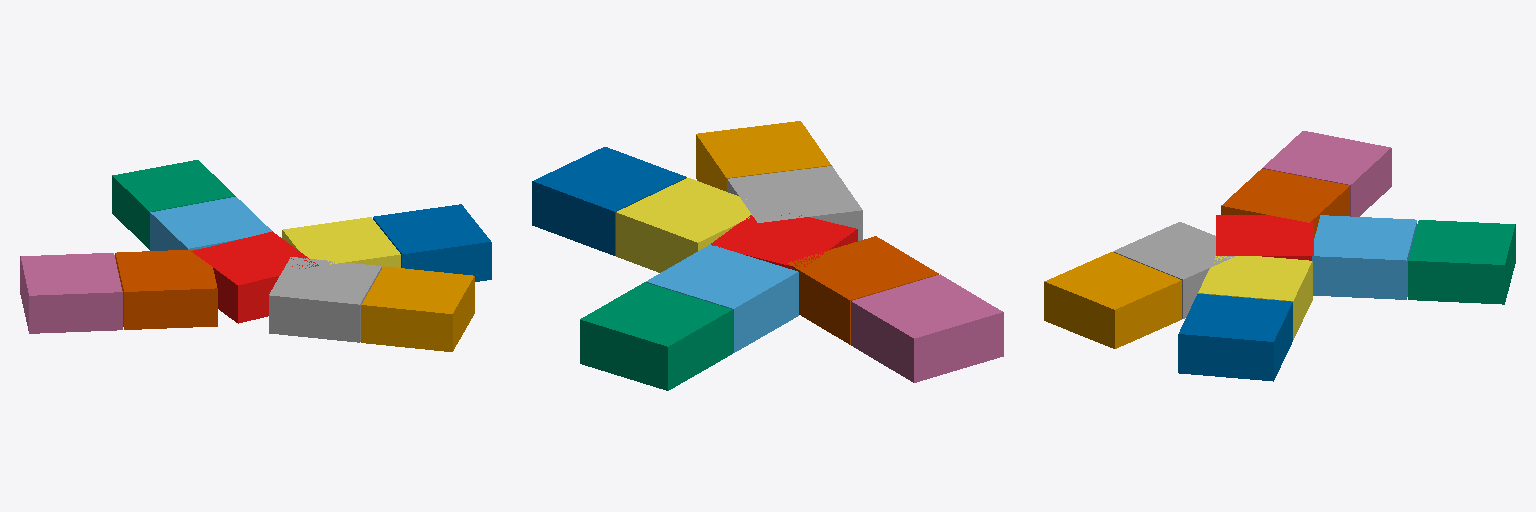
The robot description file, URDF, robot "Model_Models/Model_97.urdf2":
<?xml version='1.0' encoding='UTF-8'?>
<robot name="Model_Models/Model_97.urdf2">
  <link name="base_link">
    <inertial>
      <origin xyz="0.0 0.0 0.0" rpy="0.0 -0.0 0.0"/>
      <mass value="1.0"/>
      <inertia ixx="1.0" ixy="0.0" ixz="0.0" iyy="1.0" iyz="0.0" izz="1.0"/>
    </inertial>
    <visual>
      <geometry>
        <box size="0.67 0.67 0.3 "/>
      </geometry>
      <material name="red"/>
      <origin xyz="0.0 0.0 0.0" rpy="0.0 -0.0 0.0"/>
    </visual>
    <collision>
      <geometry>
        <box size="0.67 0.67 0.3 "/>
      </geometry>
      <origin xyz="0.0 0.0 0.0" rpy="0.0 0.0 0.0"/>
    </collision>
  </link>
  <link name="arm_0_arm1">
    <inertial>
      <origin xyz="0.0 0.34 0.0" rpy="0.0 0.0 0.0"/>
      <mass value="1.0"/>
      <inertia ixx="0.0" ixy="0.0" ixz="0.0" iyy="0.0" iyz="0.0" izz="0.0"/>
    </inertial>
    <visual>
      <geometry>
        <box size="0.67 0.67 0.3 "/>
      </geometry>
      <origin xyz="0.0 0.34 0.0" rpy="0.0 0.0 0.0"/>
    </visual>
    <collision>
      <geometry>
        <box size="0.67 0.67 0.3 "/>
      </geometry>
      <origin xyz="0.0 0.34 0.0" rpy="0.0 0.0 0.0"/>
    </collision>
  </link>
  <link name="arm_0_arm2">
    <inertial>
      <origin xyz="0.0 0.34 0.0" rpy="0.0 0.0 0.0"/>
      <mass value="1.0"/>
      <inertia ixx="0.0" ixy="0.0" ixz="0.0" iyy="0.0" iyz="0.0" izz="0.0"/>
    </inertial>
    <visual>
      <geometry>
        <box size="0.67 0.67 0.3 "/>
      </geometry>
      <origin xyz="0.0 0.34 0.0" rpy="0.0 0.0 0.0"/>
    </visual>
    <collision>
      <geometry>
        <box size="0.67 0.67 0.3 "/>
      </geometry>
      <origin xyz="0.0 0.34 0.0" rpy="0.0 0.0 0.0"/>
    </collision>
  </link>
  <link name="arm_2_arm1">
    <inertial>
      <origin xyz="0.0 0.34 0.0" rpy="0.0 0.0 0.0"/>
      <mass value="1.0"/>
      <inertia ixx="0.0" ixy="0.0" ixz="0.0" iyy="0.0" iyz="0.0" izz="0.0"/>
    </inertial>
    <visual>
      <geometry>
        <box size="0.67 0.67 0.3 "/>
      </geometry>
      <origin xyz="0.0 0.34 0.0" rpy="0.0 0.0 0.0"/>
    </visual>
    <collision>
      <geometry>
        <box size="0.67 0.67 0.3 "/>
      </geometry>
      <origin xyz="0.0 0.34 0.0" rpy="0.0 0.0 0.0"/>
    </collision>
  </link>
  <link name="arm_2_arm2">
    <inertial>
      <origin xyz="0.0 0.34 0.0" rpy="0.0 0.0 0.0"/>
      <mass value="1.0"/>
      <inertia ixx="0.0" ixy="0.0" ixz="0.0" iyy="0.0" iyz="0.0" izz="0.0"/>
    </inertial>
    <visual>
      <geometry>
        <box size="0.67 0.67 0.3 "/>
      </geometry>
      <origin xyz="0.0 0.34 0.0" rpy="0.0 0.0 0.0"/>
    </visual>
    <collision>
      <geometry>
        <box size="0.67 0.67 0.3 "/>
      </geometry>
      <origin xyz="0.0 0.34 0.0" rpy="0.0 0.0 0.0"/>
    </collision>
  </link>
  <link name="arm_3_arm1">
    <inertial>
      <origin xyz="0.0 0.34 0.0" rpy="0.0 0.0 0.0"/>
      <mass value="1.0"/>
      <inertia ixx="0.0" ixy="0.0" ixz="0.0" iyy="0.0" iyz="0.0" izz="0.0"/>
    </inertial>
    <visual>
      <geometry>
        <box size="0.67 0.67 0.3 "/>
      </geometry>
      <origin xyz="0.0 0.34 0.0" rpy="0.0 0.0 0.0"/>
    </visual>
    <collision>
      <geometry>
        <box size="0.67 0.67 0.3 "/>
      </geometry>
      <origin xyz="0.0 0.34 0.0" rpy="0.0 0.0 0.0"/>
    </collision>
  </link>
  <link name="arm_3_arm2">
    <inertial>
      <origin xyz="0.0 0.34 0.0" rpy="0.0 0.0 0.0"/>
      <mass value="1.0"/>
      <inertia ixx="0.0" ixy="0.0" ixz="0.0" iyy="0.0" iyz="0.0" izz="0.0"/>
    </inertial>
    <visual>
      <geometry>
        <box size="0.67 0.67 0.3 "/>
      </geometry>
      <origin xyz="0.0 0.34 0.0" rpy="0.0 0.0 0.0"/>
    </visual>
    <collision>
      <geometry>
        <box size="0.67 0.67 0.3 "/>
      </geometry>
      <origin xyz="0.0 0.34 0.0" rpy="0.0 0.0 0.0"/>
    </collision>
  </link>
  <link name="arm_Permutation_2_arm1">
    <inertial>
      <origin xyz="0.0 0.34 0.0" rpy="0.0 0.0 0.0"/>
      <mass value="1.0"/>
      <inertia ixx="0.0" ixy="0.0" ixz="0.0" iyy="0.0" iyz="0.0" izz="0.0"/>
    </inertial>
    <visual>
      <geometry>
        <box size="0.67 0.67 0.3 "/>
      </geometry>
      <origin xyz="0.0 0.34 0.0" rpy="0.0 0.0 0.0"/>
    </visual>
    <collision>
      <geometry>
        <box size="0.67 0.67 0.3 "/>
      </geometry>
      <origin xyz="0.0 0.34 0.0" rpy="0.0 0.0 0.0"/>
    </collision>
  </link>
  <link name="arm_Permutation_2_arm2">
    <inertial>
      <origin xyz="0.0 0.34 0.0" rpy="0.0 0.0 0.0"/>
      <mass value="1.0"/>
      <inertia ixx="0.0" ixy="0.0" ixz="0.0" iyy="0.0" iyz="0.0" izz="0.0"/>
    </inertial>
    <visual>
      <geometry>
        <box size="0.67 0.67 0.3 "/>
      </geometry>
      <origin xyz="0.0 0.34 0.0" rpy="0.0 0.0 0.0"/>
    </visual>
    <collision>
      <geometry>
        <box size="0.67 0.67 0.3 "/>
      </geometry>
      <origin xyz="0.0 0.34 0.0" rpy="0.0 0.0 0.0"/>
    </collision>
  </link>
  <joint name="arm_0_jointBase" type="fixed">
    <limit effort="1.57" velocity="1.57" lower="-1.57" upper="1.57"/>
    <parent link="base_link"/>
    <child link="arm_0_arm1"/>
    <axis xyz="1. 0. 0."/>
    <origin xyz="0.0 0.34 0.0" rpy="0.0 0.0 -0.11"/>
  </joint>
  <joint name="arm_0_joint1" type="revolute">
    <limit effort="1.57" velocity="1.57" lower="-1.57" upper="1.57"/>
    <parent link="arm_0_arm1"/>
    <child link="arm_0_arm2"/>
    <axis xyz="1. 0. 0."/>
    <origin xyz="0.0 0.68 0.0" rpy="0.0 0.0 0.0"/>
  </joint>
  <joint name="arm_2_jointBase" type="fixed">
    <limit effort="1.57" velocity="1.57" lower="-1.57" upper="1.57"/>
    <parent link="base_link"/>
    <child link="arm_2_arm1"/>
    <axis xyz="1. 0. 0."/>
    <origin xyz="0.34 0.0 0.0" rpy="0.0 0.0 -1.77"/>
  </joint>
  <joint name="arm_2_joint1" type="revolute">
    <limit effort="1.57" velocity="1.57" lower="-1.57" upper="1.57"/>
    <parent link="arm_2_arm1"/>
    <child link="arm_2_arm2"/>
    <axis xyz="1. 0. 0."/>
    <origin xyz="0.0 0.68 0.0" rpy="0.0 0.0 0.0"/>
  </joint>
  <joint name="arm_3_jointBase" type="fixed">
    <limit effort="1.57" velocity="1.57" lower="-1.57" upper="1.57"/>
    <parent link="base_link"/>
    <child link="arm_3_arm1"/>
    <axis xyz="1. 0. 0."/>
    <origin xyz="-0.34 0.0 0.0" rpy="0.0 0.0 1.14"/>
  </joint>
  <joint name="arm_3_joint1" type="revolute">
    <limit effort="1.57" velocity="1.57" lower="-1.57" upper="1.57"/>
    <parent link="arm_3_arm1"/>
    <child link="arm_3_arm2"/>
    <axis xyz="1. 0. 0."/>
    <origin xyz="0.0 0.68 0.0" rpy="0.0 0.0 0.0"/>
  </joint>
  <joint name="arm_Permutation_2_jointBase" type="fixed">
    <limit effort="1.57" velocity="1.57" lower="-1.57" upper="1.57"/>
    <parent link="base_link"/>
    <child link="arm_Permutation_2_arm1"/>
    <axis xyz="1. 0. 0."/>
    <origin xyz="0.0 -0.34 0.0" rpy="0.0 0.0 -2.333185307179586"/>
  </joint>
  <joint name="arm_Permutation_2_joint1" type="revolute">
    <limit effort="1.57" velocity="1.57" lower="-1.57" upper="1.57"/>
    <parent link="arm_Permutation_2_arm1"/>
    <child link="arm_Permutation_2_arm2"/>
    <axis xyz="1. 0. 0."/>
    <origin xyz="0.0 0.68 0.0" rpy="0.0 0.0 0.0"/>
  </joint>
  <material name="red">
    <color rgba="0.969 0.129 0.122 1.   "/>
  </material>
</robot>

--- Render facts (derived) ---
3 views of the same robot in one strip: view 1: azimuth 30°, elevation 25°; view 2: azimuth 150°, elevation 25°; view 3: azimuth 270°, elevation 25° (orthographic).
Model Model_Models/Model_97.urdf2 with 9 links and 8 joints (4 revolute, 4 fixed), rooted at base_link, posed every joint at zero.
Visible links, largest first — view 1: arm_Permutation_2_arm2, arm_3_arm2, arm_Permutation_2_arm1, arm_3_arm1, arm_2_arm2, base_link, arm_0_arm2, arm_0_arm1, arm_2_arm1; view 2: arm_3_arm2, arm_0_arm2, arm_2_arm2, arm_0_arm1, arm_2_arm1, arm_3_arm1, arm_Permutation_2_arm2, arm_Permutation_2_arm1, base_link; view 3: arm_Permutation_2_arm2, arm_2_arm2, arm_0_arm2, arm_0_arm1, arm_3_arm2, arm_3_arm1, arm_2_arm1, arm_Permutation_2_arm1, base_link.
Link boxes in pixels (x1,y1,x2,y2): arm_Permutation_2_arm2: [361, 266, 474, 351]; arm_3_arm2: [20, 253, 122, 333]; arm_Permutation_2_arm1: [269, 257, 381, 342]; arm_3_arm1: [115, 249, 217, 329]; arm_2_arm2: [373, 204, 491, 281]; base_link: [191, 231, 318, 323]; arm_0_arm2: [112, 160, 235, 249]; arm_0_arm1: [150, 197, 271, 250]; arm_2_arm1: [282, 217, 400, 267]; arm_3_arm2: [851, 274, 1003, 382]; arm_0_arm2: [580, 282, 732, 390]; arm_2_arm2: [532, 147, 686, 255]; arm_0_arm1: [646, 244, 798, 352]; arm_2_arm1: [616, 178, 751, 272]; arm_3_arm1: [788, 236, 938, 344]; arm_Permutation_2_arm2: [696, 121, 831, 191]; arm_Permutation_2_arm1: [727, 166, 862, 240]; base_link: [711, 213, 857, 269]; arm_Permutation_2_arm2: [1044, 252, 1181, 348]; arm_2_arm2: [1178, 294, 1292, 381]; arm_0_arm2: [1408, 220, 1515, 304]; arm_0_arm1: [1312, 215, 1416, 299]; arm_3_arm2: [1262, 131, 1391, 216]; arm_3_arm1: [1221, 169, 1349, 237]; arm_2_arm1: [1198, 256, 1312, 339]; arm_Permutation_2_arm1: [1113, 222, 1234, 318]; base_link: [1216, 215, 1313, 260].
Bounding box of the posed robot: 3.45 × 3.24 × 0.3 m (x, y, z).
Geometry: primitives only (box / cylinder / sphere), no mesh files.